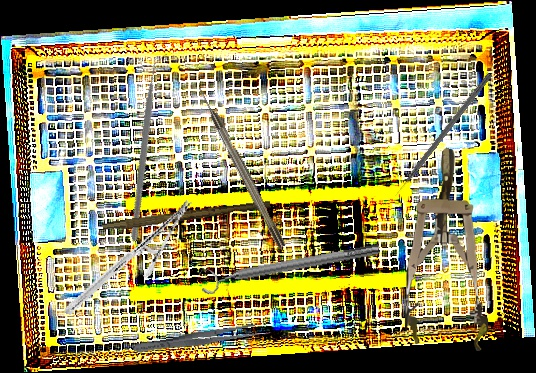Chopper: (67, 53, 233, 242)
Dressing Forceps: (132, 321, 258, 357)
Fixation Ring: (197, 236, 383, 296)
Hook Surgical: (195, 85, 287, 250), (391, 71, 493, 198)
Needle Holder: (64, 174, 192, 341)
Scalpel Handle: (102, 196, 271, 236)
Speculum: (404, 147, 492, 352)
